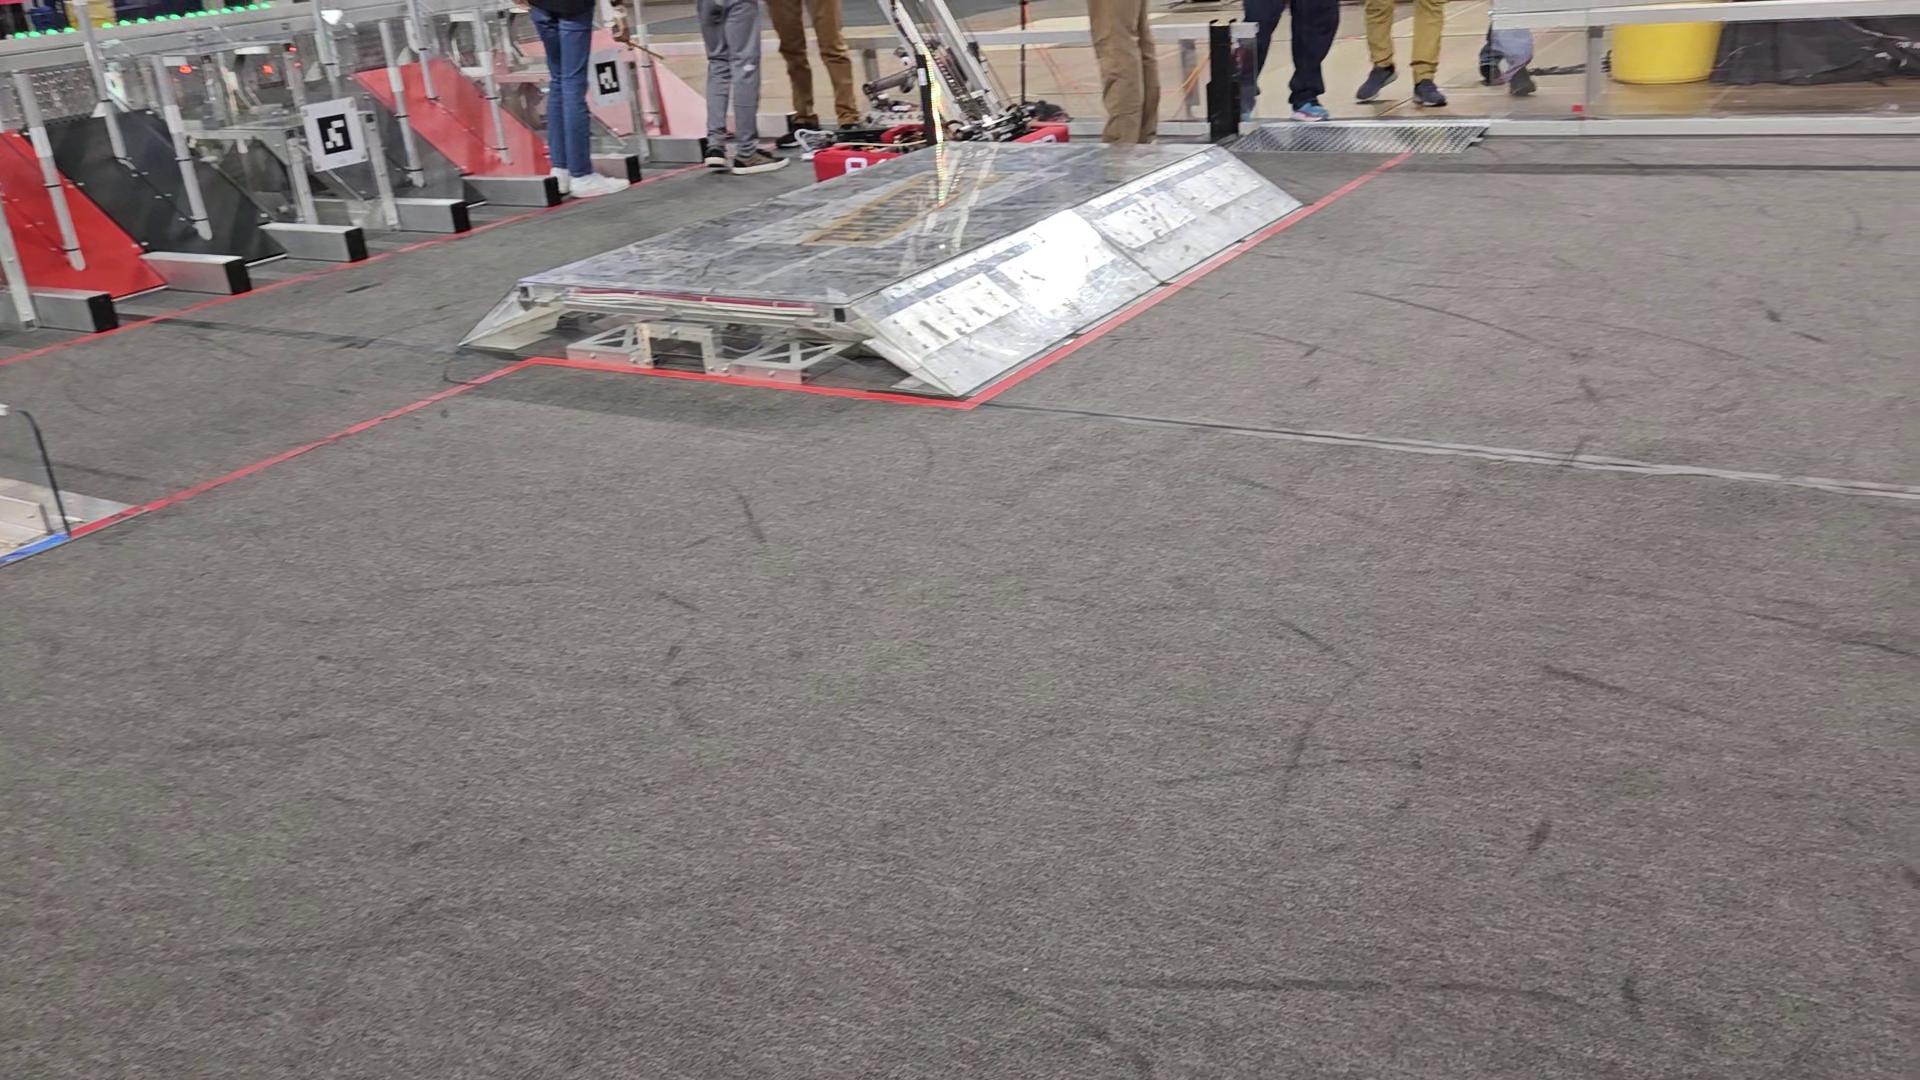robot: (816, 0, 1069, 183)
